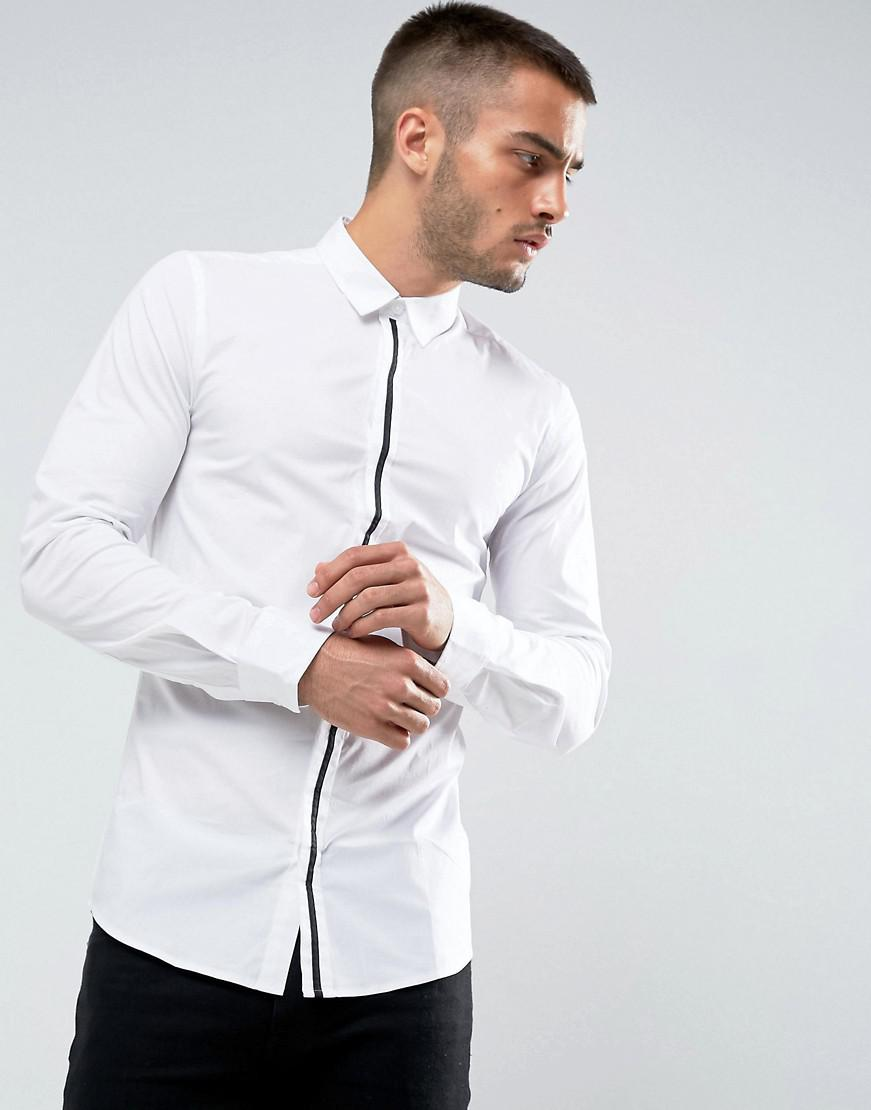teeshirt: (5, 210, 617, 1018)
